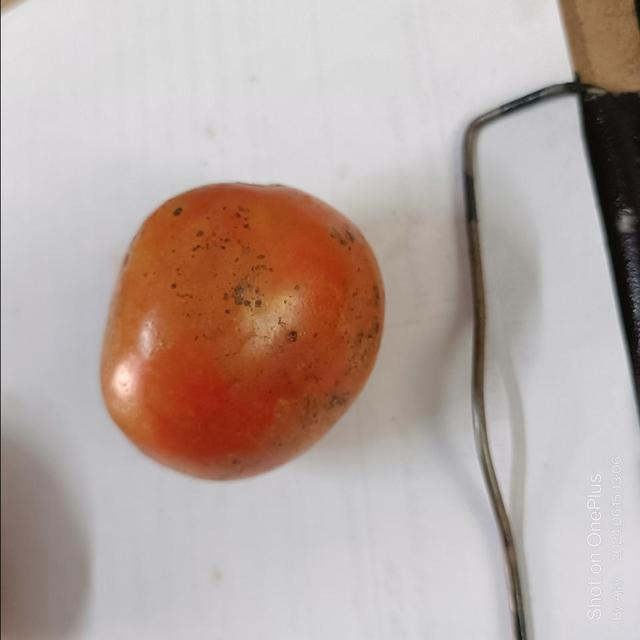Bacterial Spot Fruit: (14, 12, 195, 223)
